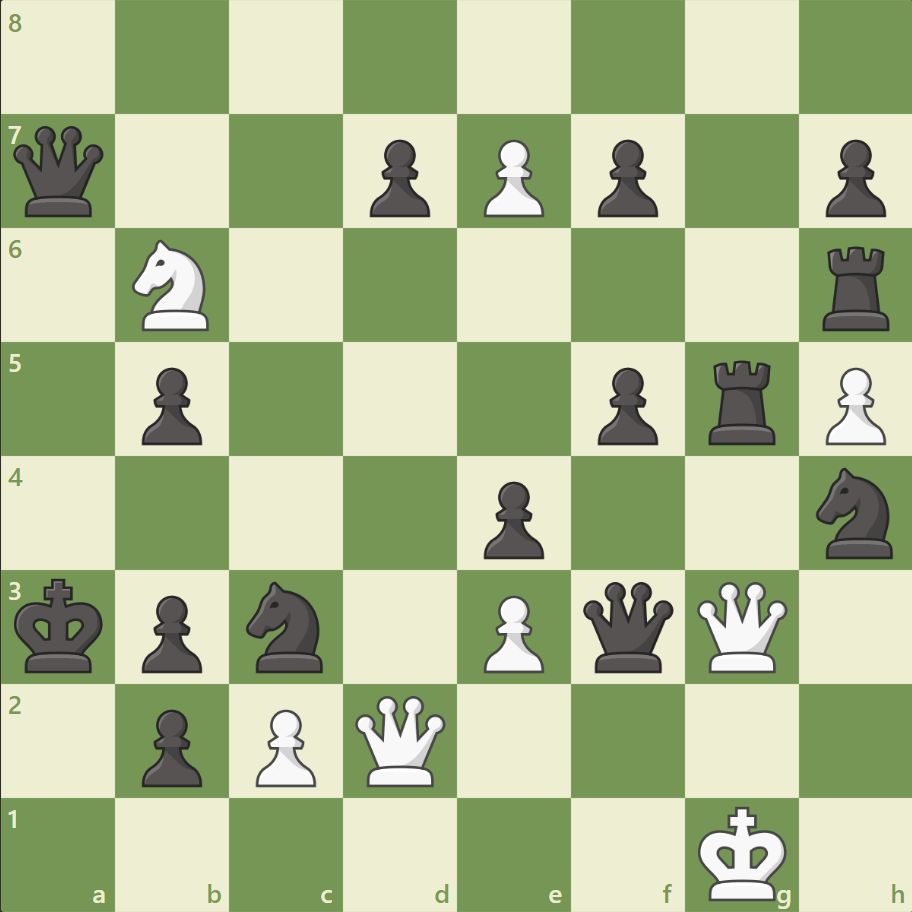K: (692, 798, 792, 906)
N: (124, 234, 222, 337)
P: (474, 132, 549, 223), (474, 586, 549, 677), (247, 700, 322, 791), (815, 359, 889, 450)
Q: (691, 576, 790, 676), (351, 690, 450, 789)
k: (11, 571, 111, 679)
n: (806, 461, 903, 564), (238, 575, 335, 677)
p: (133, 359, 208, 450), (474, 473, 549, 564), (133, 586, 208, 677), (133, 700, 208, 791), (361, 132, 435, 223), (588, 132, 662, 223), (815, 132, 889, 223), (588, 359, 662, 450)
q: (10, 122, 109, 222), (578, 576, 677, 676)
r: (814, 239, 897, 336), (700, 352, 783, 449)
